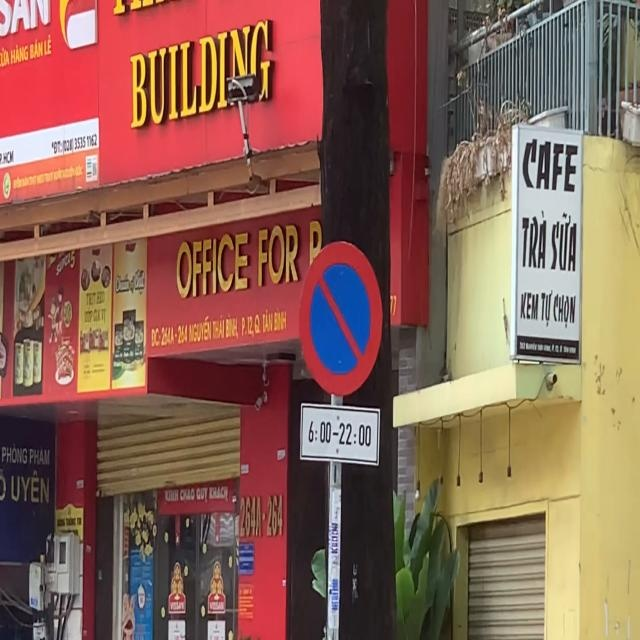bien_cam: (300, 242, 384, 396)
